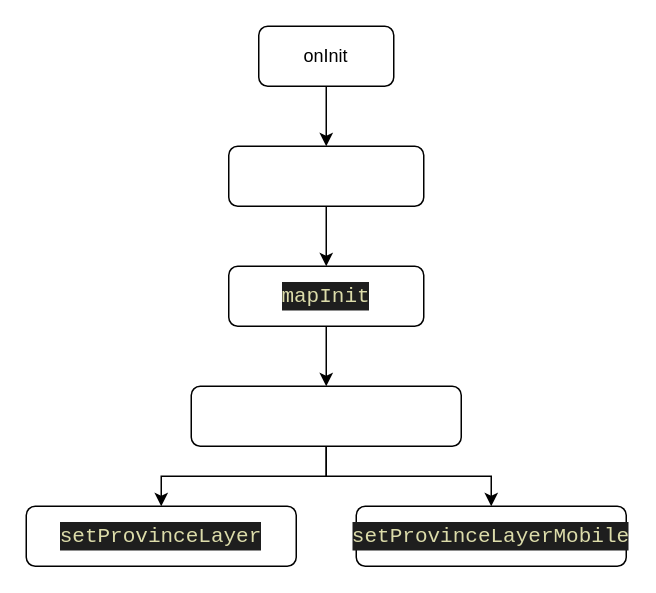
Image size: 656x593. Some labels were removed from this diagram. The shapes that lost their labels are listed below. From the top down, each one's box as (x1, y1, x2, y2) in pixels, then its label:
(227, 145, 424, 206): startMapInit
(190, 385, 461, 446): loadProvinceMapLayer
